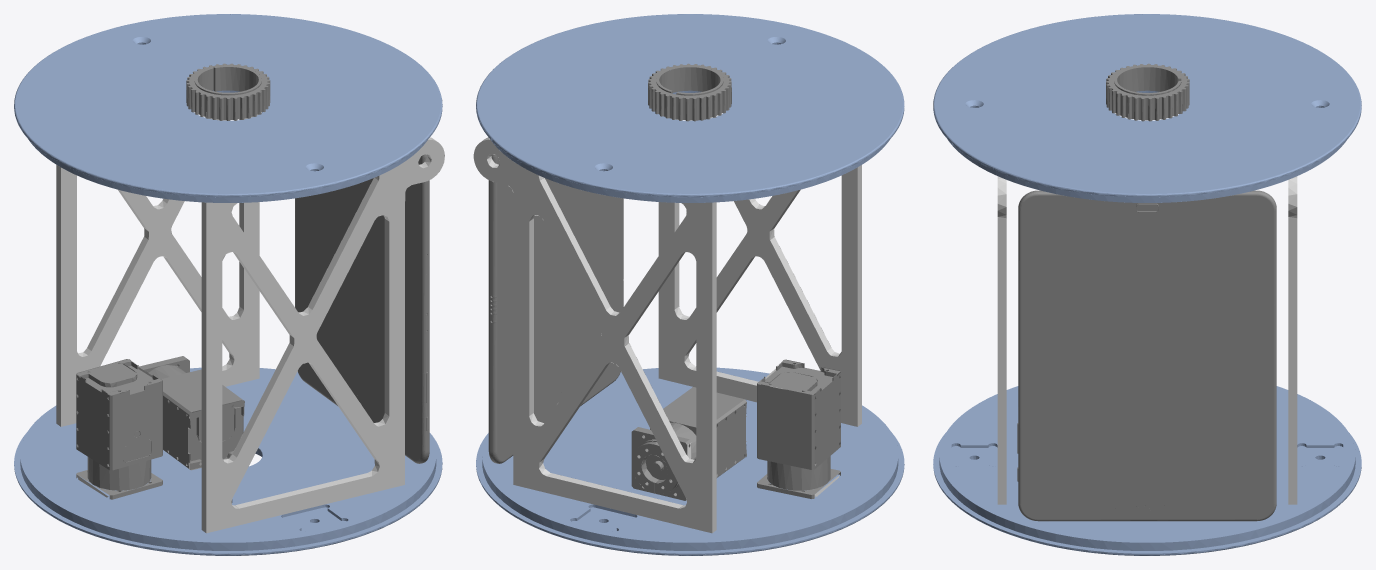
The model's file is c3_head1_assy.dae.
3 renders of one model, left to right at view 1: azimuth 30°, elevation 25°; view 2: azimuth 150°, elevation 25°; view 3: azimuth 270°, elevation 25°, orthographic.
Parts seen in each view (by area): view 1: Untitled_021, Untitled_022, Untitled_009, Untitled_020, Untitled_010, Untitled_012, Untitled, Untitled_001, Untitled_013, Untitled_002, Untitled_016, Untitled_005; view 2: Untitled_021, Untitled_022, Untitled_010, Untitled_020, Untitled_009, Untitled_012, Untitled_001, Untitled, Untitled_013, Untitled_002, Untitled_016; view 3: Untitled_020, Untitled_021, Untitled_022, Untitled, Untitled_009, Untitled_010.
Boxes of the visible parts, x1,y1,x2,y2 form: Untitled_021: (14,14,442,202); Untitled_022: (14,367,442,555); Untitled_009: (201,137,444,533); Untitled_020: (295,154,429,463); Untitled_010: (56,114,259,426); Untitled_012: (76,359,162,499); Untitled: (186,63,270,120); Untitled_001: (139,356,244,470); Untitled_013: (76,375,109,469); Untitled_002: (163,395,189,468); Untitled_016: (76,359,137,383); Untitled_005: (190,400,244,441); Untitled_021: (476,14,904,202); Untitled_022: (476,367,904,555); Untitled_010: (473,137,716,533); Untitled_020: (488,154,623,463); Untitled_009: (658,114,861,426); Untitled_012: (757,359,840,498); Untitled_001: (631,387,746,500); Untitled: (648,63,731,121); Untitled_013: (814,372,840,468); Untitled_002: (716,402,746,477); Untitled_016: (757,372,818,394); Untitled_020: (1017,190,1276,521); Untitled_021: (933,14,1361,202); Untitled_022: (933,386,1361,555); Untitled: (1106,63,1189,121); Untitled_009: (997,176,1006,504); Untitled_010: (1288,176,1297,504).
Bounding box in the file's own units: 0.2801 × 0.2802 × 0.2953.
